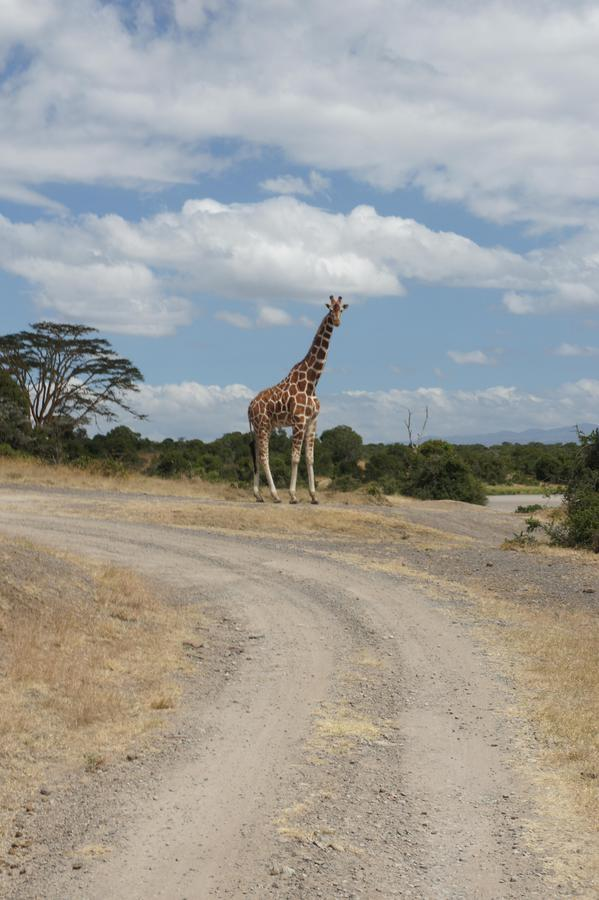giraffe: (228, 292, 354, 528)
